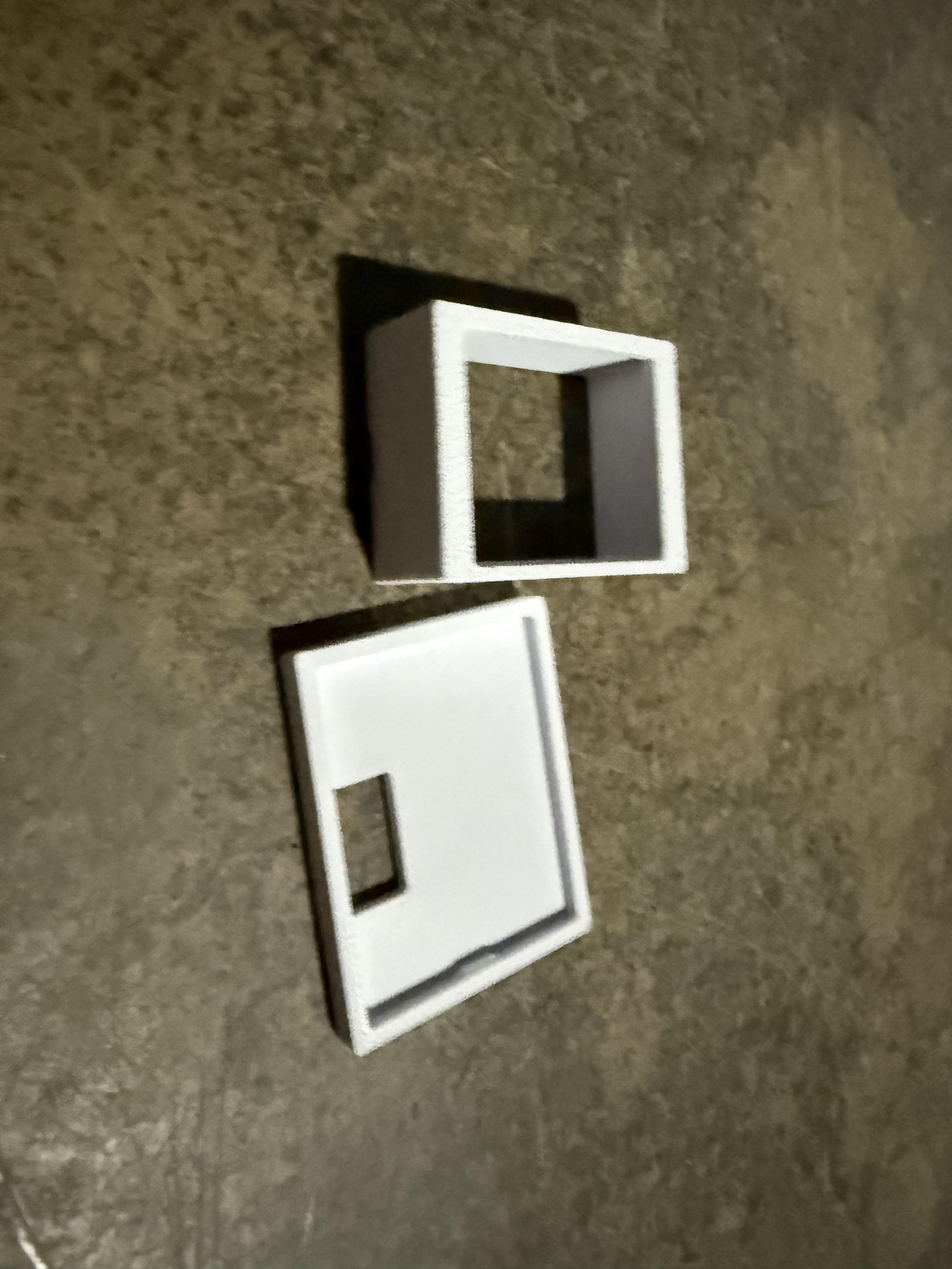enclosure: (268, 596, 615, 1068), (362, 299, 688, 587)
